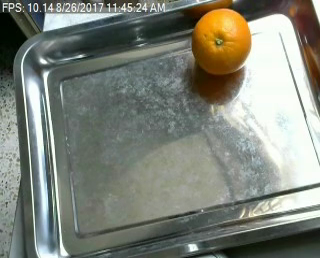Orange: (191, 9, 251, 75)
